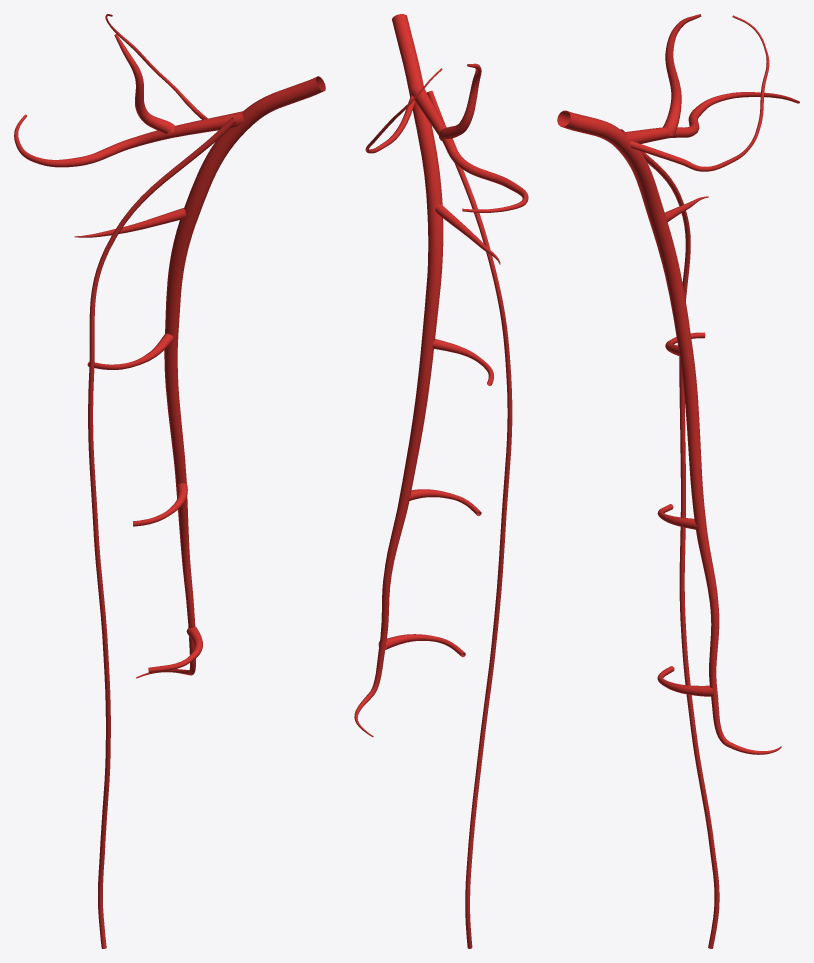
The model's file is circulatorio-deep-femoral-artery-r.glb.
The picture shows the model from 3 angles, left to right: view 1: azimuth 30°, elevation 25°; view 2: azimuth 150°, elevation 25°; view 3: azimuth 270°, elevation 25°; orthographic projection. The views are drawn at different scales.
Parts seen in each view (by area): view 1: Deep femoral artery.r, Descending branch of lateral circumflex femoral artery, Lateral circumflex femoral artery.r, Perforating femoral arteries.r; view 2: Deep femoral artery.r, Descending branch of lateral circumflex femoral artery, Lateral circumflex femoral artery.r, Perforating femoral arteries.r, Medial circumflex femoral artery.r; view 3: Deep femoral artery.r, Descending branch of lateral circumflex femoral artery, Lateral circumflex femoral artery.r, Perforating femoral arteries.r, Medial circumflex femoral artery.r.
Boxes of the visible parts, x1,y1,x2,y2 form: Deep femoral artery.r: (136,76,325,678); Descending branch of lateral circumflex femoral artery: (88,117,236,948); Lateral circumflex femoral artery.r: (14,34,244,167); Perforating femoral arteries.r: (74,208,202,673); Deep femoral artery.r: (354,14,443,737); Descending branch of lateral circumflex femoral artery: (427,90,512,948); Lateral circumflex femoral artery.r: (409,63,528,212); Perforating femoral arteries.r: (378,204,500,657); Medial circumflex femoral artery.r: (365,68,442,153); Deep femoral artery.r: (557,110,781,754); Descending branch of lateral circumflex femoral artery: (620,129,719,948); Lateral circumflex femoral artery.r: (624,14,799,143); Perforating femoral arteries.r: (657,196,713,696); Medial circumflex femoral artery.r: (630,15,769,171).
Bounding box in the file's own units: 0.0907 × 0.3628 × 0.0847.
